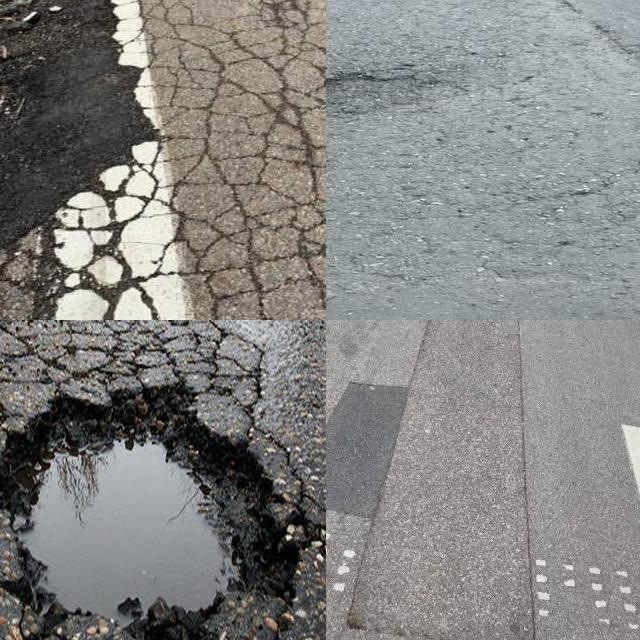Lubang: (13, 392, 284, 640), (326, 73, 463, 123)
Pinggir: (0, 0, 147, 236)
Retak Buaya: (25, 0, 326, 320), (0, 320, 262, 447)
Sambungan: (344, 320, 532, 640), (326, 382, 410, 519)
